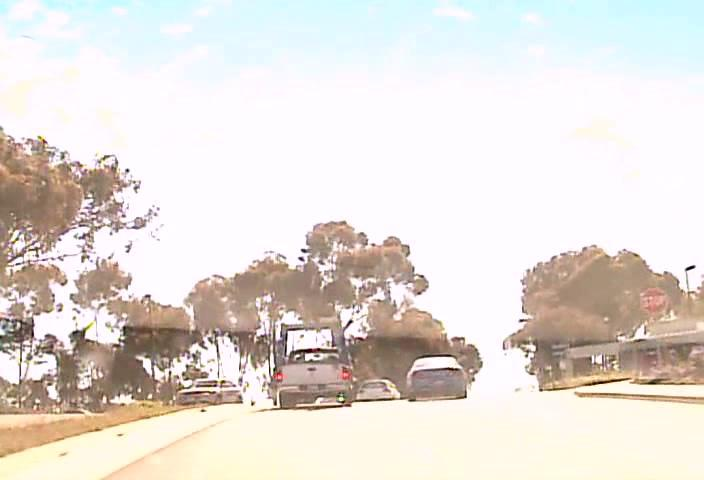stop: (639, 286, 667, 313)
